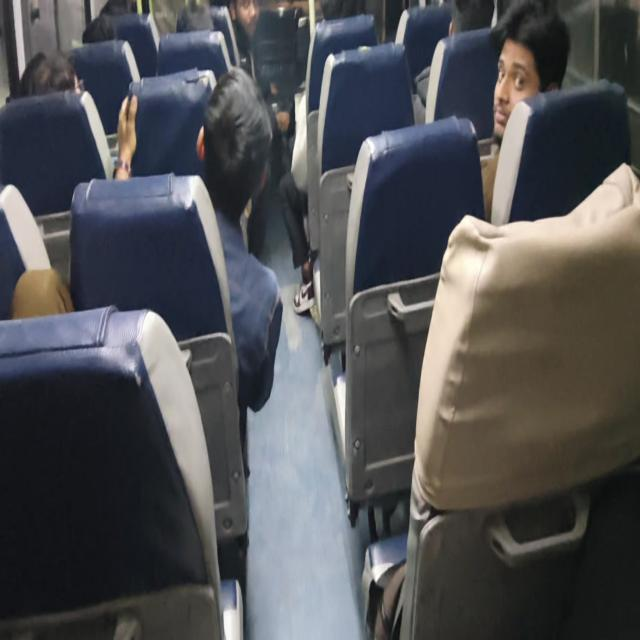person: (191, 92, 264, 202), (494, 28, 542, 132), (7, 58, 93, 109), (436, 6, 492, 52), (76, 14, 125, 49), (316, 0, 356, 40), (229, 0, 261, 34)
